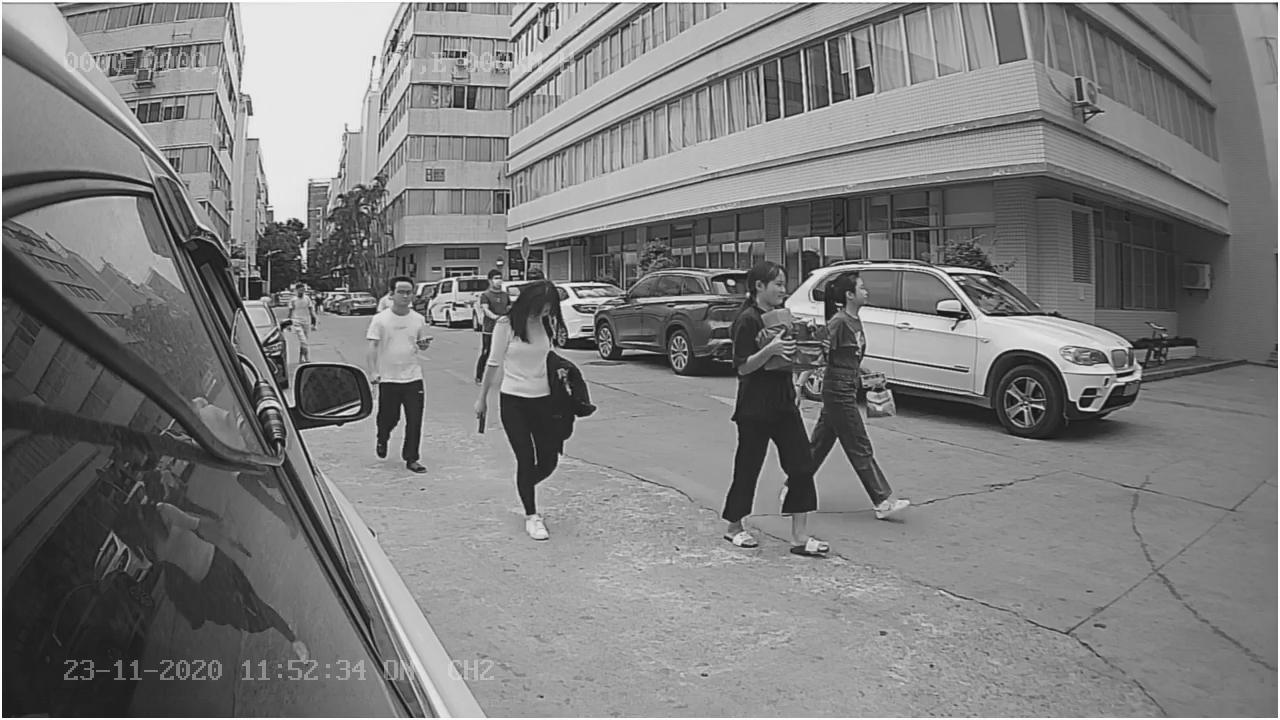person: (477, 277, 574, 546), (374, 274, 428, 468)
